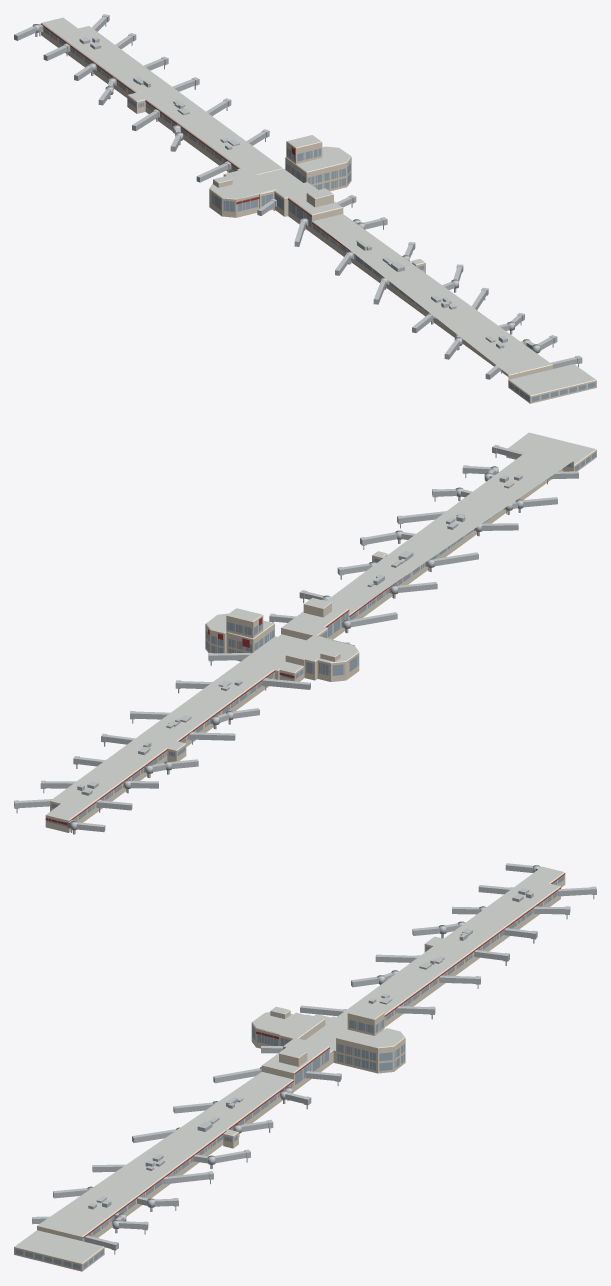
Rendered from atl-hartsfield-jackson-concourse-a.detail.glb.
3 renders of one model, top to bottom at view 1: azimuth 30°, elevation 25°; view 2: azimuth 150°, elevation 25°; view 3: azimuth 330°, elevation 25°, orthographic. The views are drawn at different scales.
Parts seen in each view (by area): view 1: Hartsfield-Jackson Concourse A; view 2: Hartsfield-Jackson Concourse A; view 3: Hartsfield-Jackson Concourse A.
Boxes of the visible parts, x1=… form: Hartsfield-Jackson Concourse A: x1=14, y1=14, x2=596, y2=403; Hartsfield-Jackson Concourse A: x1=14, y1=432, x2=596, y2=834; Hartsfield-Jackson Concourse A: x1=14, y1=863, x2=596, y2=1271.
Bounding box in the file's own units: 112 × 33 × 730.
